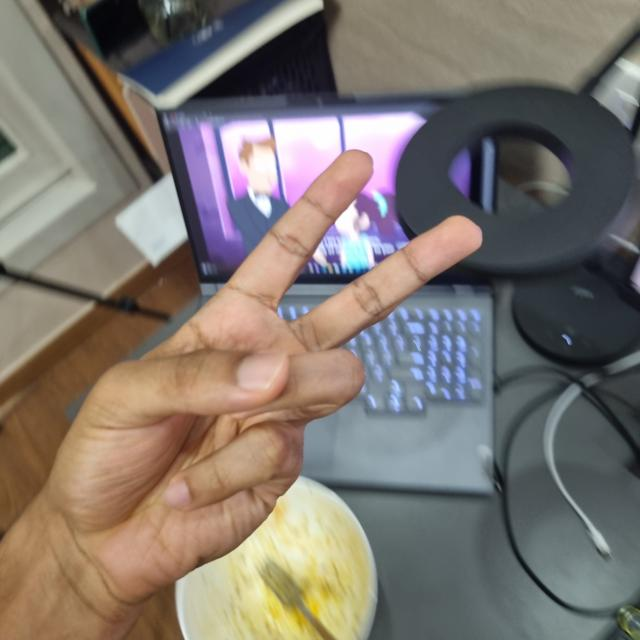Scissors: (0, 298, 321, 639)
